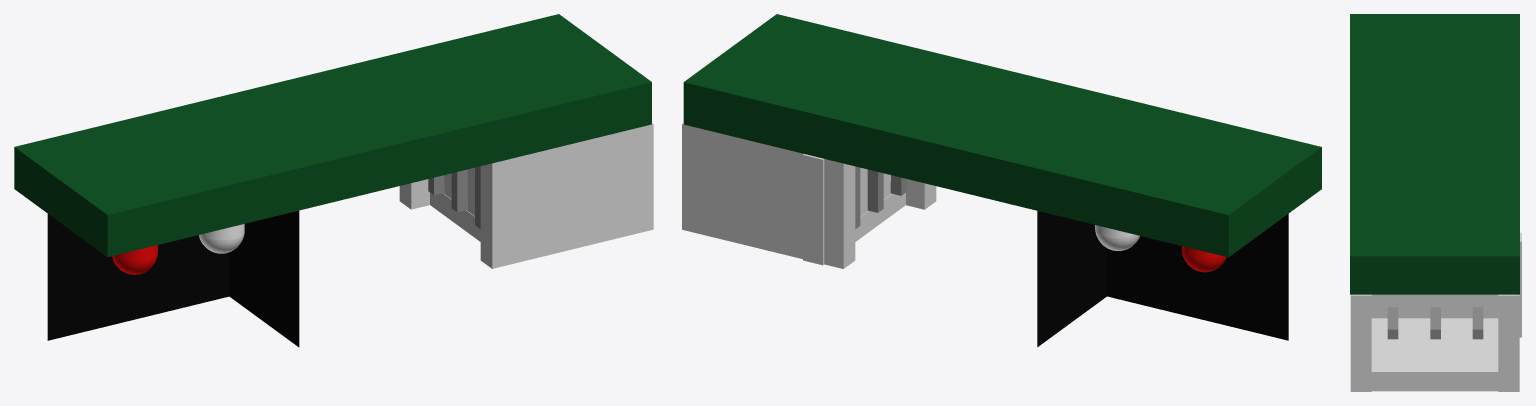
The model's file is Red_Light_Sensor.fbx.
3 views of the same model, side by side, from view 1: azimuth 30°, elevation 25°; view 2: azimuth 150°, elevation 25°; view 3: azimuth 270°, elevation 25° (orthographic). The views are drawn at different scales.
Parts seen in each view (by area): view 1: ROOOO17:pasted__pasted__pasted__pasted__pasted__pasted__pCub (×3), ROOOO17:pasted__pasted__pasted__pasted__pCube15, ROOOO17:pasted__pasted__pasted__pasted__pasted__pasted__past (×2); view 2: ROOOO17:pasted__pasted__pasted__pasted__pasted__pasted__pCub (×3), ROOOO17:pasted__pasted__pasted__pasted__pCube15, ROOOO17:pasted__pasted__pasted__pasted__pasted__pasted__past (×3); view 3: ROOOO17:pasted__pasted__pasted__pasted__pasted__pasted__pCub (×5), ROOOO17:pasted__pasted__pasted__pasted__pasted__pasted__past (×3).
Boxes of the visible parts, box(x1,y1,x2,y2) form: ROOOO17:pasted__pasted__pasted__pasted__pasted__pasted__pCub (×3): box(14, 14, 653, 268); ROOOO17:pasted__pasted__pasted__pasted__pCube15: box(47, 210, 299, 347); ROOOO17:pasted__pasted__pasted__pasted__pasted__pasted__past (×2): box(399, 179, 480, 241); ROOOO17:pasted__pasted__pasted__pasted__pasted__pasted__pCub (×3): box(683, 14, 1321, 257); ROOOO17:pasted__pasted__pasted__pasted__pCube15: box(1037, 211, 1288, 347); ROOOO17:pasted__pasted__pasted__pasted__pasted__pasted__past (×3): box(682, 123, 905, 268); ROOOO17:pasted__pasted__pasted__pasted__pasted__pasted__pCub (×5): box(1350, 14, 1519, 391); ROOOO17:pasted__pasted__pasted__pasted__pasted__pasted__past (×3): box(1371, 232, 1521, 391).
Size of the model in its own units: 2.71 by 0.9027 by 0.8088.
